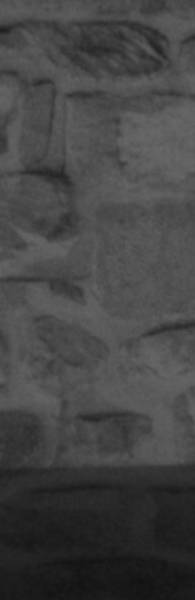water: (0, 467, 195, 600)
